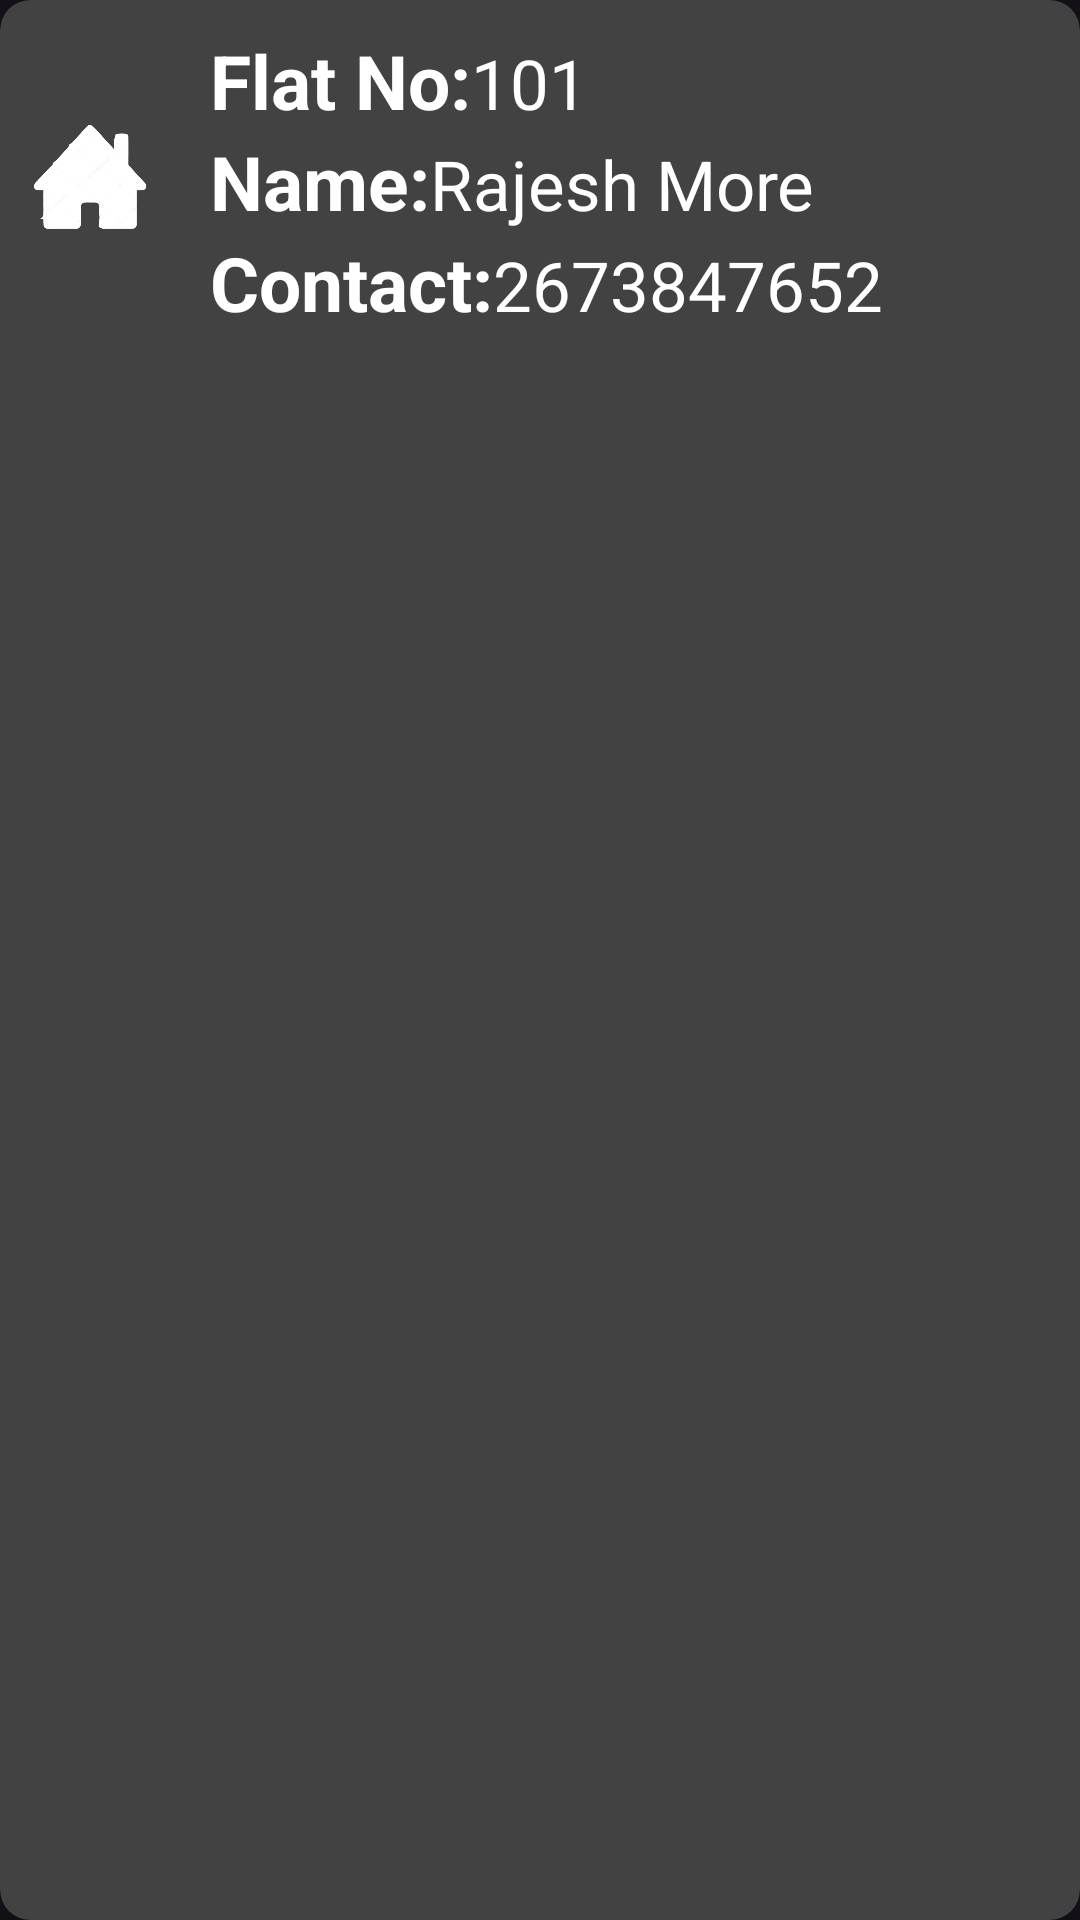

Icon click points for this 1080w x 1920h phone screenshot, format (x,y):
home: (90,177)
